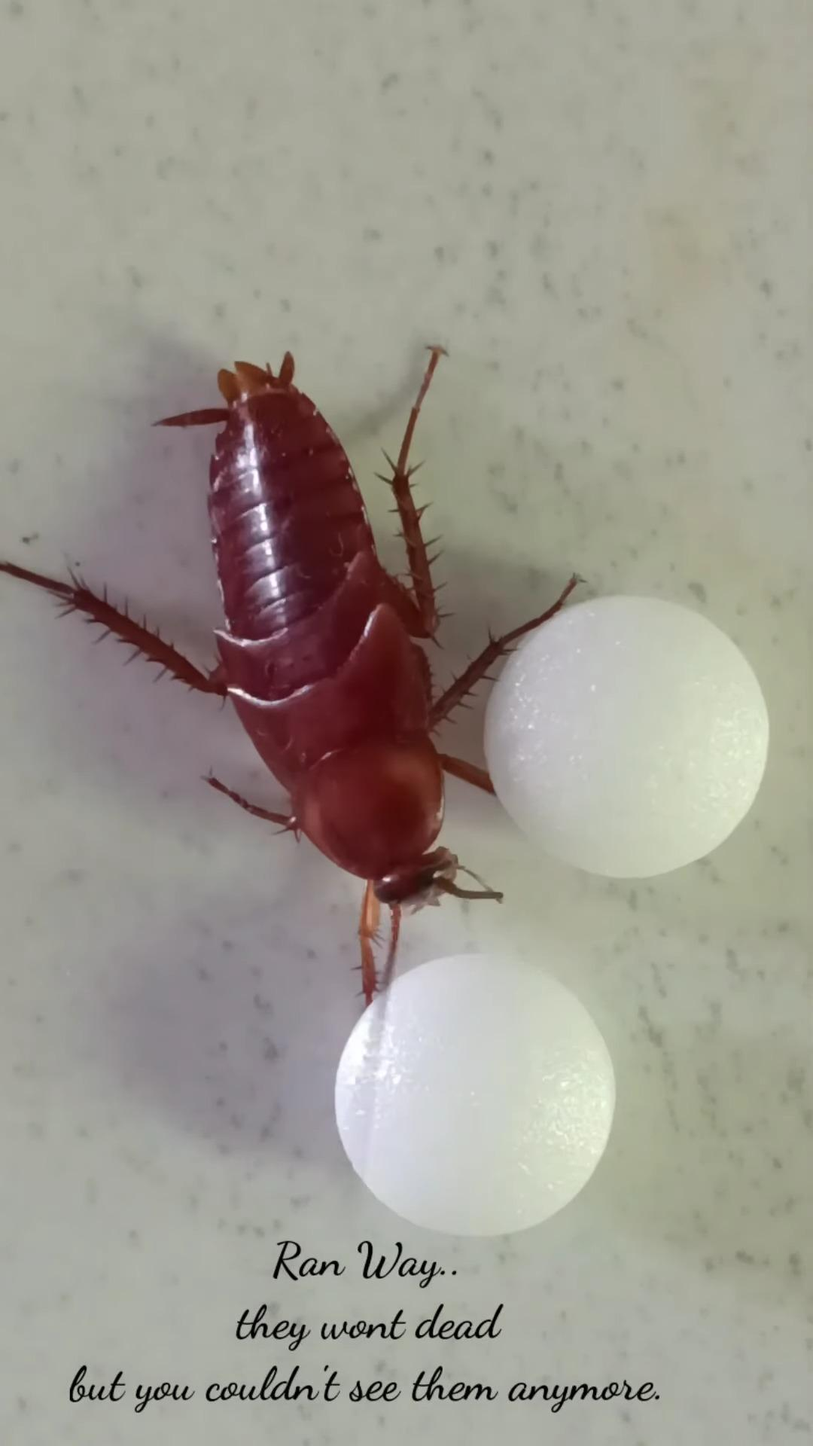cockroach: (5, 304, 472, 901)
